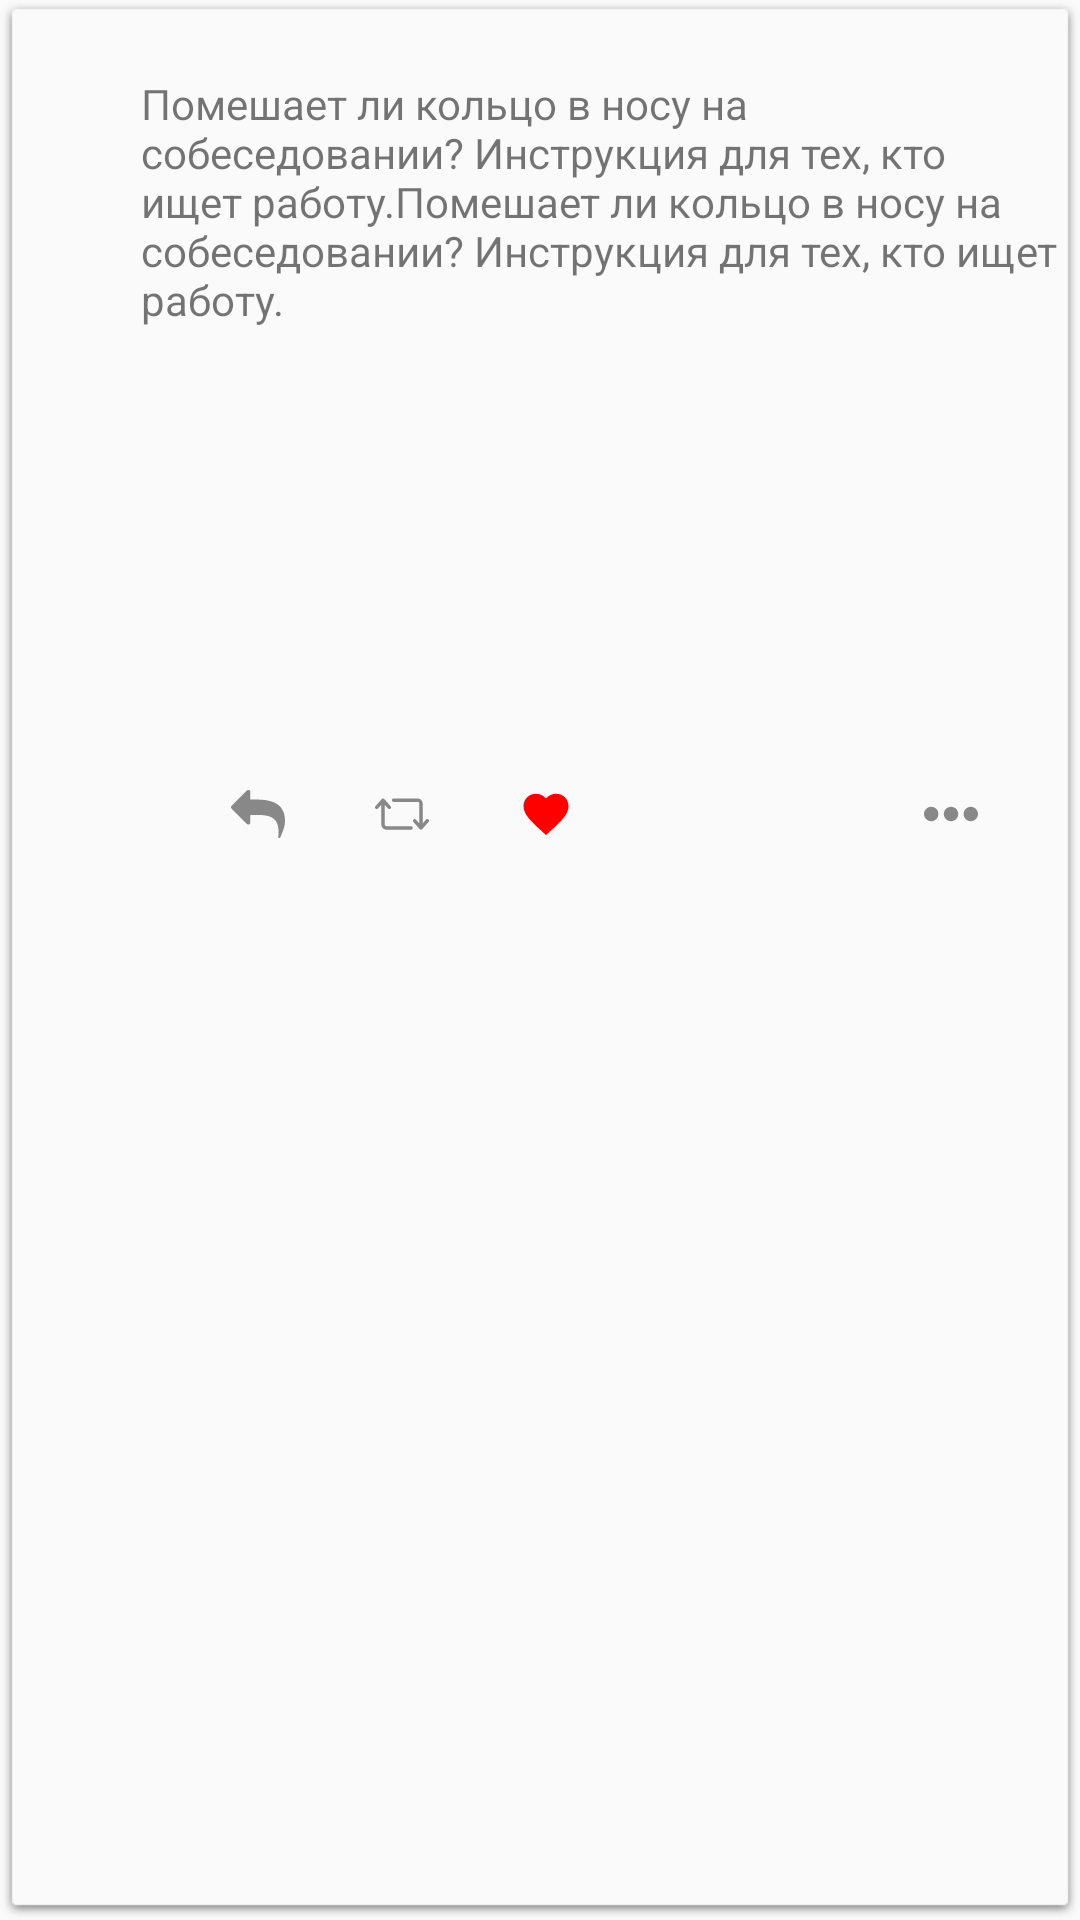

Where icons sit on this 1080w x 1920h app screen, as (x1, y1, x2, y2):
more: (924, 806, 978, 822)
reply: (231, 790, 285, 838)
